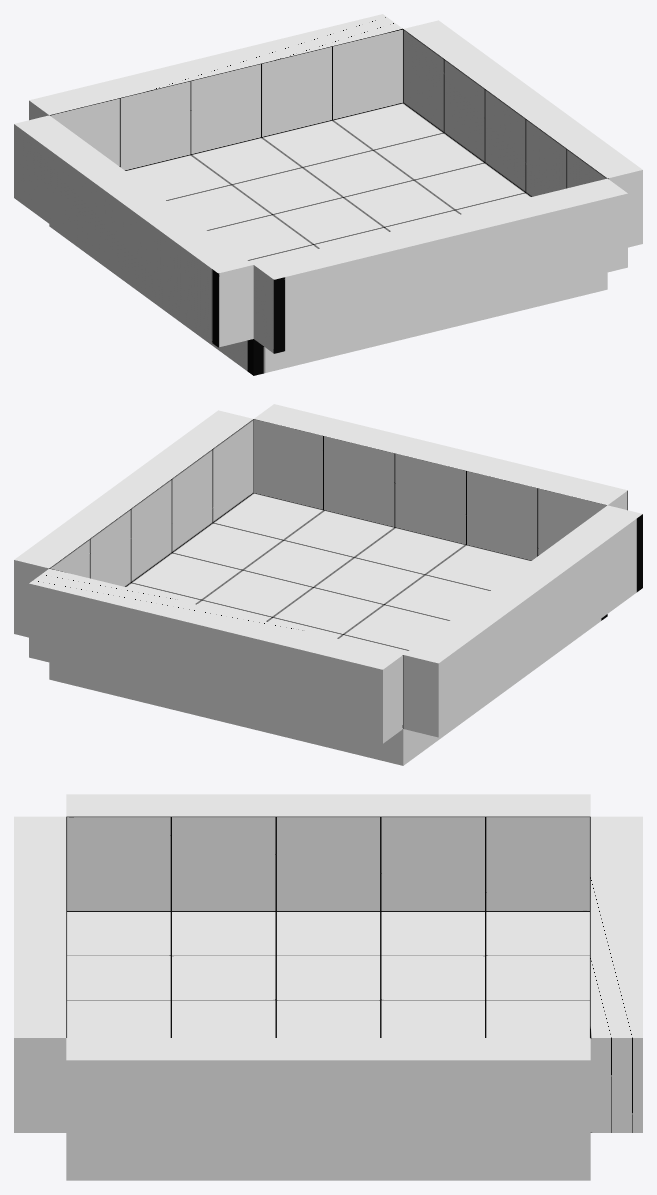
Rendered from Stage1-1.gltf.
3 views of the same model, one above another, from view 1: azimuth 30°, elevation 25°; view 2: azimuth 150°, elevation 25°; view 3: azimuth 270°, elevation 25° (orthographic). The views are drawn at different scales.
Parts seen in each view (by area): view 1: 立方体, 立方体.002, 立方体.001, 立方体.003, 立方体.004; view 2: 立方体, 立方体.001, 立方体.002, 立方体.003, 立方体.004; view 3: 立方体, 立方体.003, 立方体.004, 立方体.001, 立方体.002.
Boxes of the visible parts, <box> form: 立方体: <box>49,103,607,375</box>; 立方体.002: <box>253,178,627,353</box>; 立方体.001: <box>29,14,403,170</box>; 立方体.003: <box>14,115,253,347</box>; 立方体.004: <box>403,20,642,247</box>; 立方体: <box>49,493,607,765</box>; 立方体.001: <box>29,568,403,743</box>; 立方体.002: <box>253,404,627,560</box>; 立方体.003: <box>403,505,642,737</box>; 立方体.004: <box>14,410,253,637</box>; 立方体: <box>66,911,590,1180</box>; 立方体.003: <box>66,794,590,911</box>; 立方体.004: <box>66,1038,590,1155</box>; 立方体.001: <box>590,816,642,1132</box>; 立方体.002: <box>14,816,66,1132</box>.
Size of the model in its own units: 24 by 6 by 24.
Materials: 1 (1 with a texture image).
